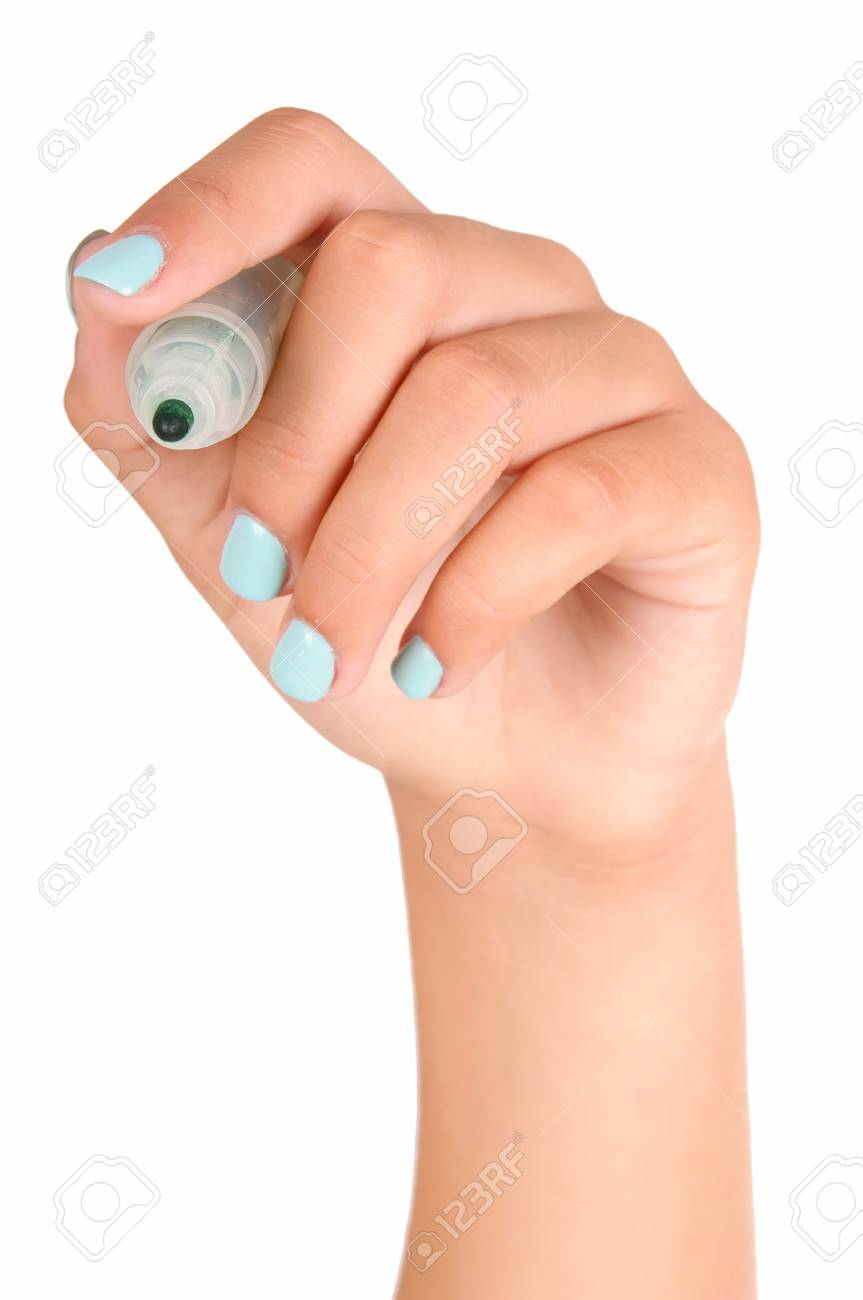pointer: (44, 99, 763, 773)
